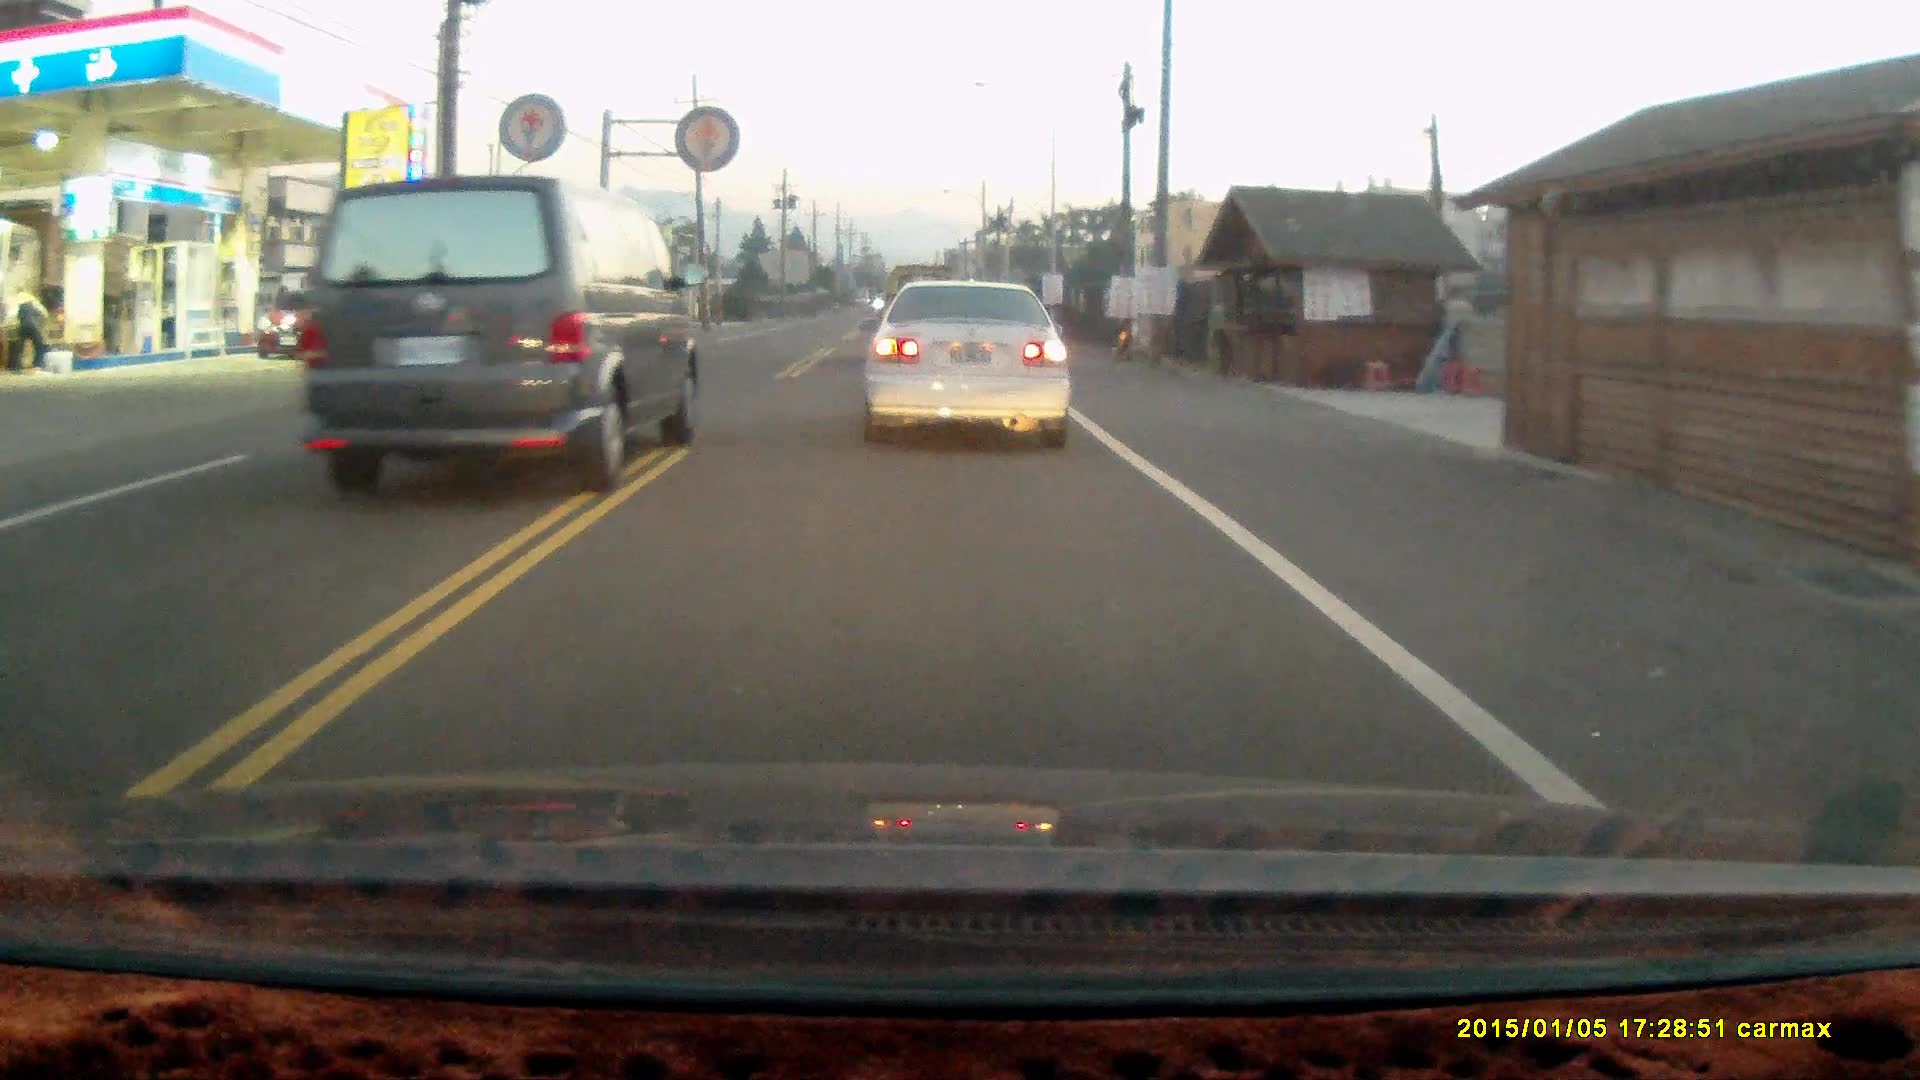pedestrian: (15, 282, 49, 372)
vehicle: (296, 172, 704, 503), (863, 278, 1076, 457), (1, 212, 142, 375)
